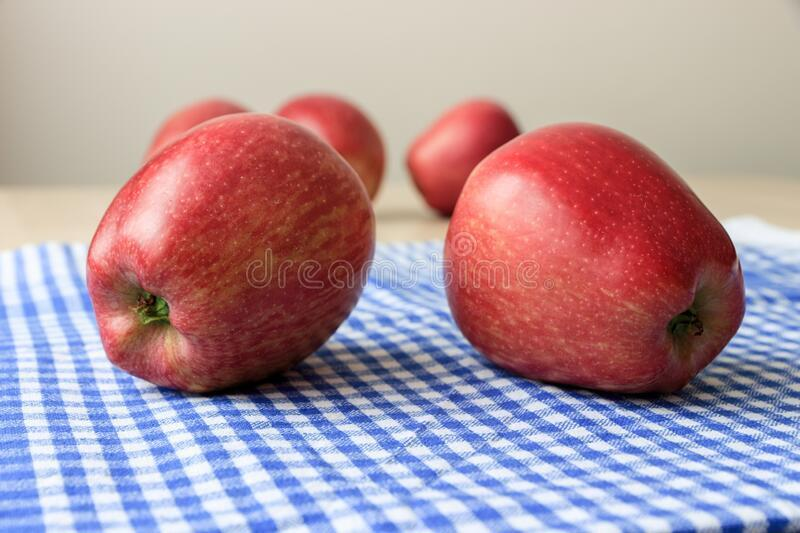apple: (433, 119, 745, 394), (79, 107, 374, 393)
